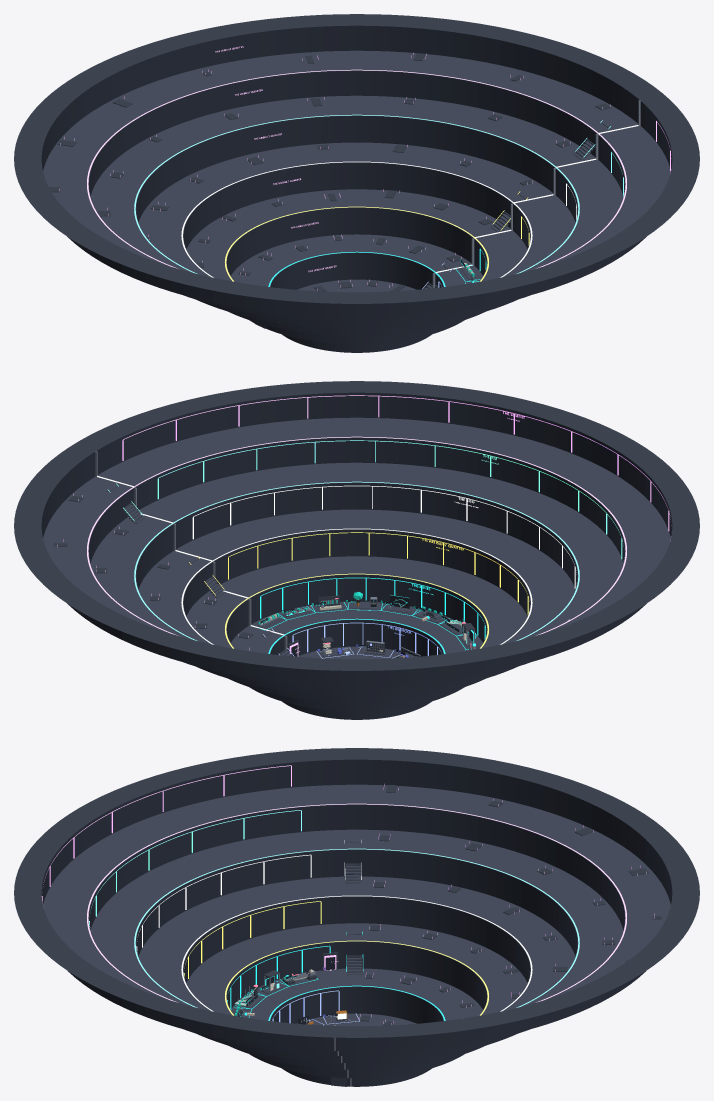
File: the-stack.glb
3 views of the same model, one above another, from view 1: azimuth 30°, elevation 25°; view 2: azimuth 150°, elevation 25°; view 3: azimuth 270°, elevation 25° (orthographic).
Parts seen in each view (by area): view 1: Pit_Shell, Pit_Unbuilt, Pit_Conduit, Pit_Stairs; view 2: Pit_Shell, Pit_Traces, Pit_Conduit, Pit_Stairs, Pit_Unbuilt; view 3: Pit_Shell, Pit_Traces, Pit_Unbuilt, Pit_Stairs.
Part boxes in pixels (x1,y1,x2,y2): Pit_Shell: [14, 14, 699, 352]; Pit_Unbuilt: [49, 52, 611, 291]; Pit_Conduit: [432, 100, 640, 288]; Pit_Stairs: [422, 120, 612, 289]; Pit_Shell: [14, 381, 699, 719]; Pit_Traces: [122, 395, 671, 655]; Pit_Conduit: [95, 451, 287, 652]; Pit_Stairs: [106, 483, 569, 656]; Pit_Unbuilt: [53, 493, 253, 650]; Pit_Shell: [14, 748, 699, 1086]; Pit_Traces: [41, 765, 339, 1023]; Pit_Unbuilt: [359, 784, 661, 1025]; Pit_Stairs: [344, 840, 363, 975].
Bounding box in the file's own units: 348 × 88.28 × 348.
